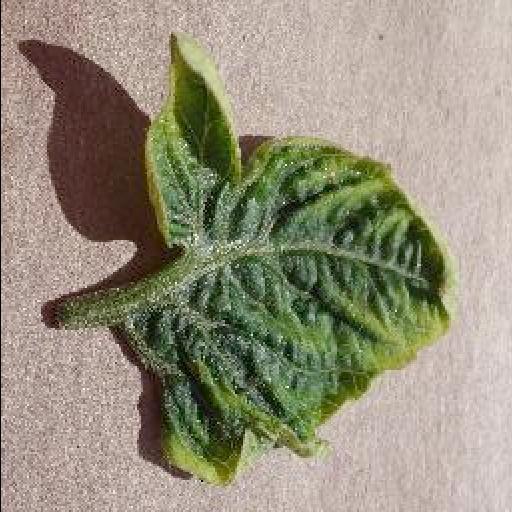disease_tomato: (126, 32, 456, 492)
